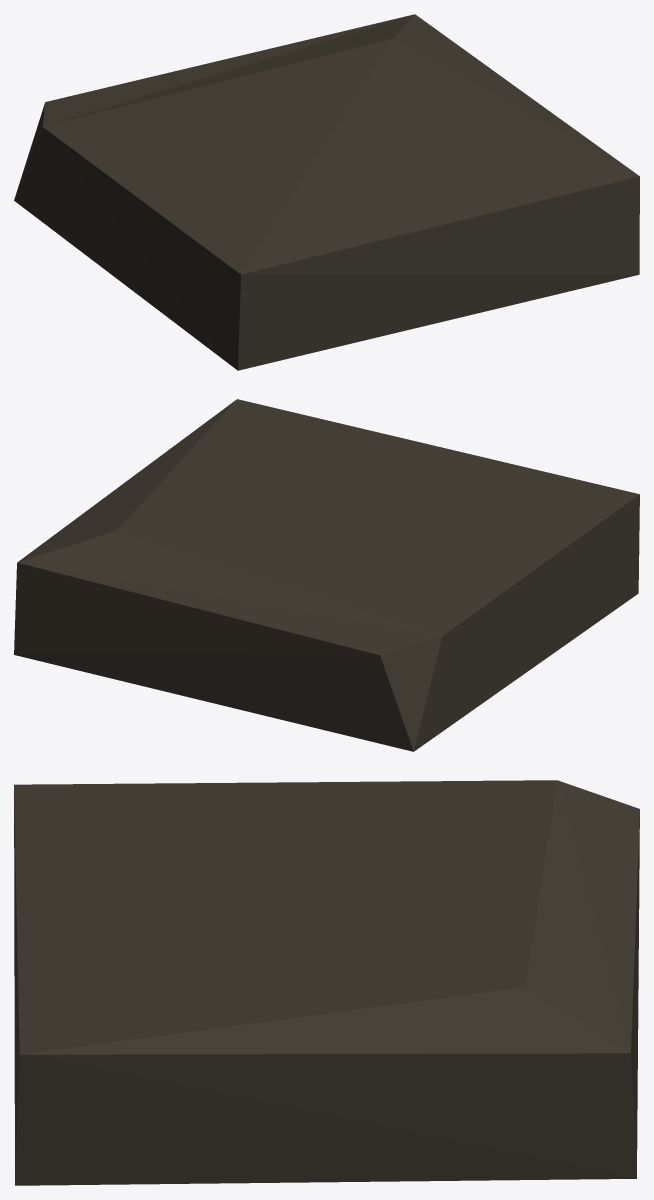
Rendered from Brick_Single_8.fbx.
The picture shows the model from 3 angles, top to bottom: view 1: azimuth 30°, elevation 25°; view 2: azimuth 150°, elevation 25°; view 3: azimuth 270°, elevation 25°; orthographic projection. The views are drawn at different scales.
Visible parts, largest first — view 1: Group63035; view 2: Group63035; view 3: Group63035.
Boxes of the visible parts, bbox=[...] form: Group63035: bbox=[14, 14, 639, 370]; Group63035: bbox=[14, 399, 639, 751]; Group63035: bbox=[14, 780, 639, 1185].
Size of the model in its own units: 1.79 by 0.4874 by 1.75.
